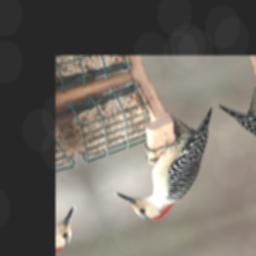Woodpecker: (92, 100, 246, 229)
